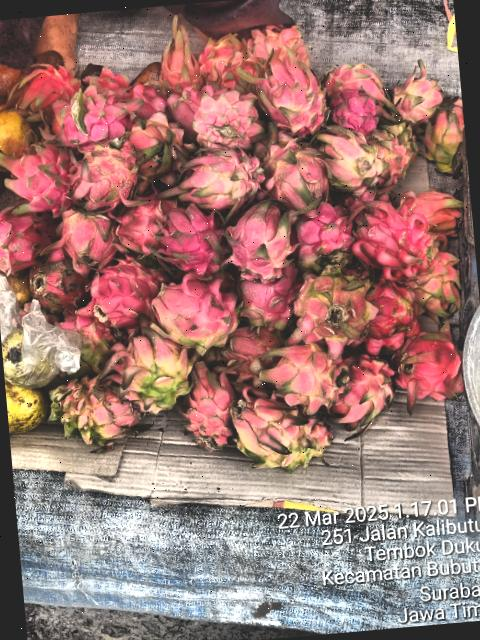buah-naga-belum-matang: (227, 380, 332, 472), (292, 260, 380, 354), (148, 272, 241, 352), (260, 338, 354, 416), (104, 326, 193, 406), (222, 196, 300, 280), (50, 376, 144, 444), (168, 147, 266, 210), (176, 360, 240, 454), (188, 84, 269, 154), (257, 133, 329, 207), (330, 352, 398, 428), (314, 126, 385, 197), (410, 249, 464, 324), (422, 96, 468, 180), (366, 118, 420, 184), (388, 61, 440, 128), (130, 121, 186, 178), (218, 324, 278, 376)
buah-naga-matang: (253, 44, 331, 137), (354, 192, 432, 276), (0, 141, 78, 215), (320, 53, 390, 135), (153, 204, 227, 280), (393, 328, 465, 406), (46, 83, 127, 150), (80, 258, 162, 324), (354, 278, 424, 352), (235, 266, 306, 336), (65, 145, 135, 210), (47, 210, 120, 272), (392, 183, 463, 244), (292, 198, 355, 263), (25, 256, 89, 314), (0, 208, 51, 274), (11, 63, 81, 111), (112, 205, 174, 255), (191, 29, 247, 81), (149, 26, 194, 86), (241, 23, 294, 58)
